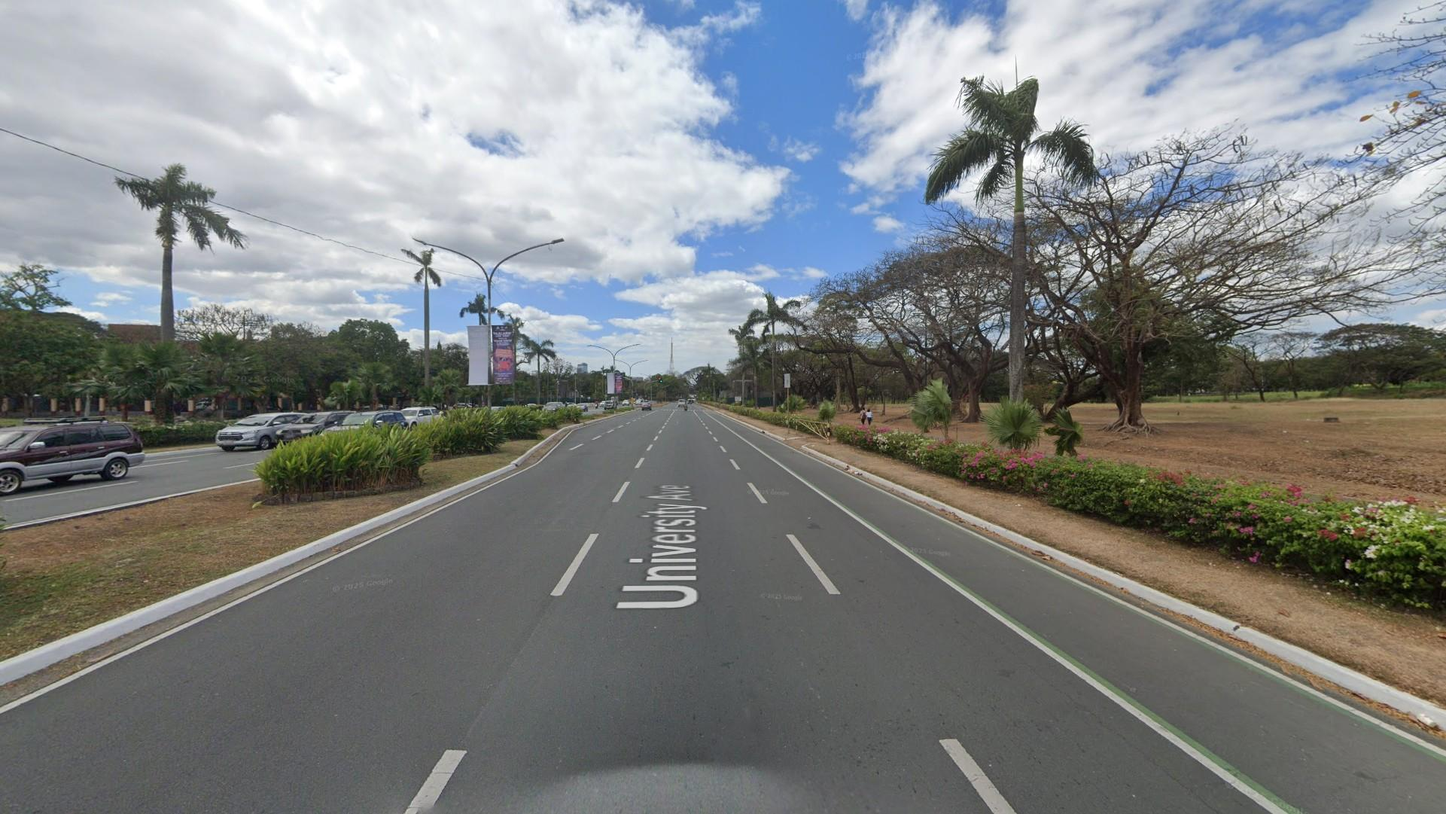pedestrian: (859, 407, 867, 426), (865, 408, 873, 427)
